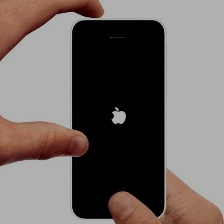phone: (64, 14, 172, 221)
